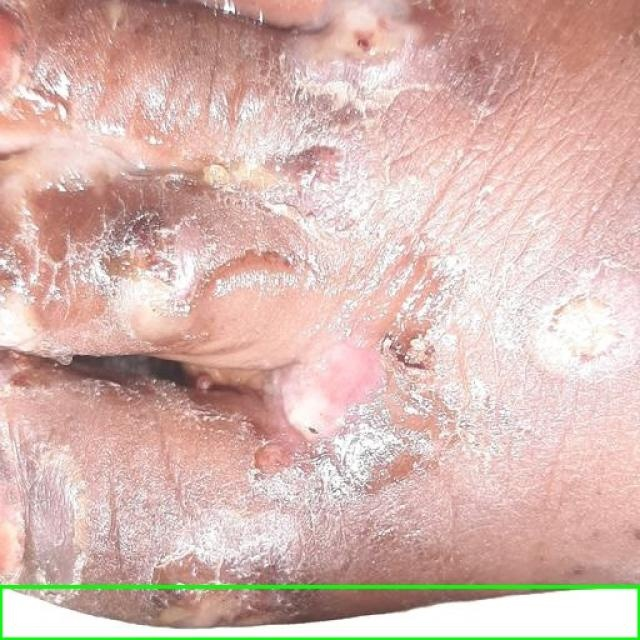Eczema: (0, 586, 639, 639)
